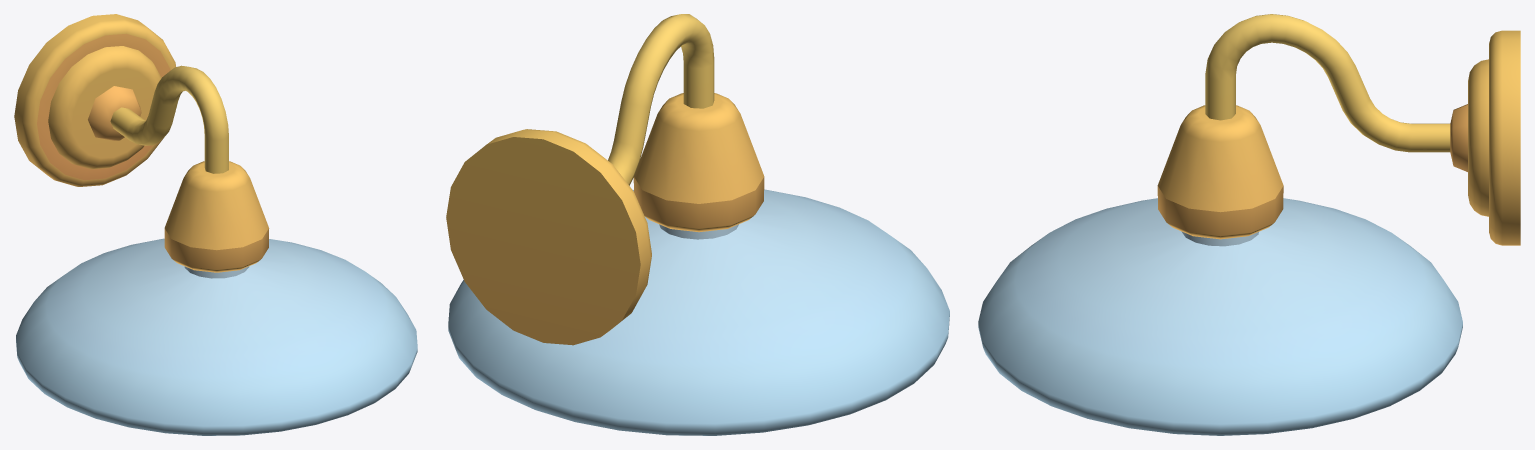
The model's file is Light_10.glb.
3 views of the same model, side by side, from view 1: azimuth 30°, elevation 25°; view 2: azimuth 150°, elevation 25°; view 3: azimuth 270°, elevation 25° (orthographic). The views are drawn at different scales.
Visible parts, largest first — view 1: Light_10; view 2: Light_10; view 3: Light_10.
Boxes of the visible parts, box(x1,y1,x2,y2) form: Light_10: box(14, 14, 417, 435); Light_10: box(446, 14, 949, 435); Light_10: box(978, 14, 1520, 435).
Bounding box in the file's own units: 0.4123 × 0.3443 × 0.4614.
1 material, 1 textured.
